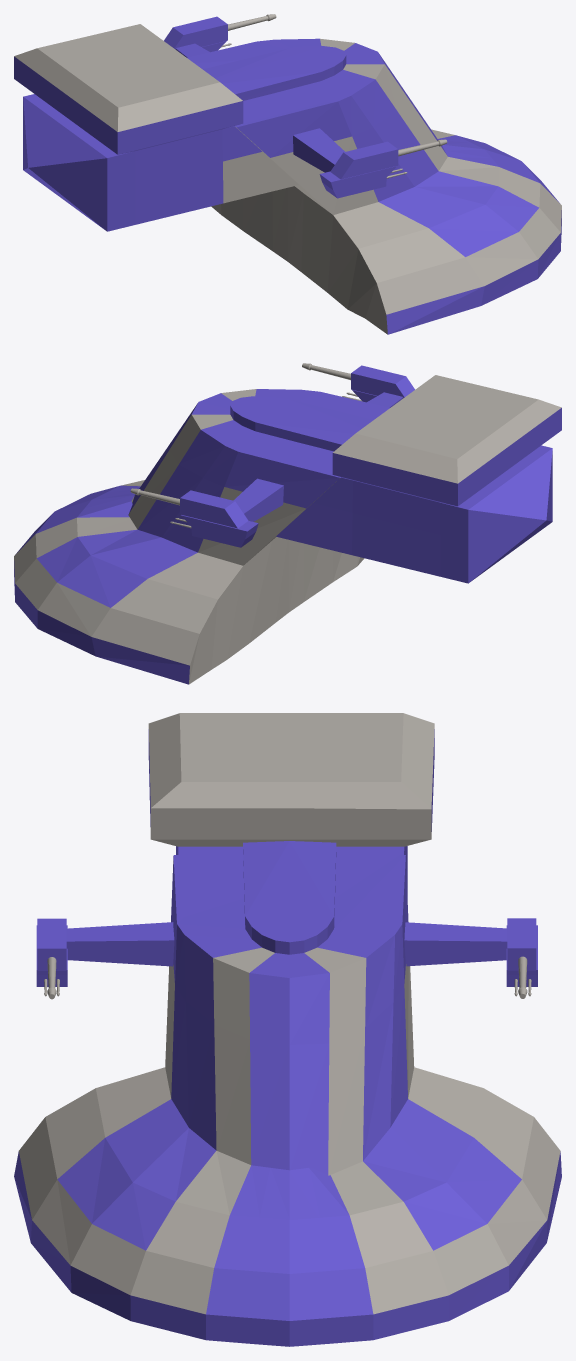
Rendered from AAT_klar_2.fbx.
3 renders of one model, top to bottom at view 1: azimuth 30°, elevation 25°; view 2: azimuth 150°, elevation 25°; view 3: azimuth 270°, elevation 25°, orthographic. The views are drawn at different scales.
Visible parts, largest first — view 1: polySurface14, polySurface15, polySurface10, polySurface16, polySurface11, polySurface9; view 2: polySurface14, polySurface15, polySurface11, polySurface13, polySurface10, polySurface8; view 3: polySurface14, polySurface15, polySurface16, polySurface13, polySurface10, polySurface11.
Boxes of the visible parts, x1,y1,x2,y2 form: polySurface14: [187, 38, 561, 334]; polySurface15: [14, 24, 324, 231]; polySurface10: [330, 141, 398, 179]; polySurface16: [293, 128, 344, 172]; polySurface11: [164, 16, 227, 49]; polySurface9: [319, 166, 396, 198]; polySurface14: [14, 389, 389, 684]; polySurface15: [276, 375, 561, 583]; polySurface11: [180, 490, 248, 528]; polySurface13: [233, 478, 283, 521]; polySurface10: [351, 365, 414, 397]; polySurface8: [181, 515, 258, 547]; polySurface14: [14, 841, 561, 1346]; polySurface15: [148, 713, 434, 916]; polySurface16: [66, 922, 174, 966]; polySurface13: [404, 922, 507, 966]; polySurface10: [37, 918, 66, 970]; polySurface11: [507, 918, 536, 970].
Size of the model in its own units: 203 by 89.12 by 137.
